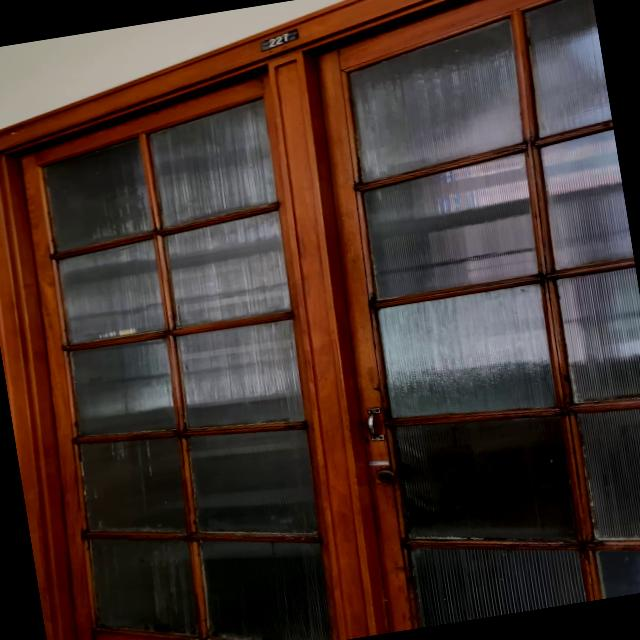room227: (252, 26, 304, 54)
